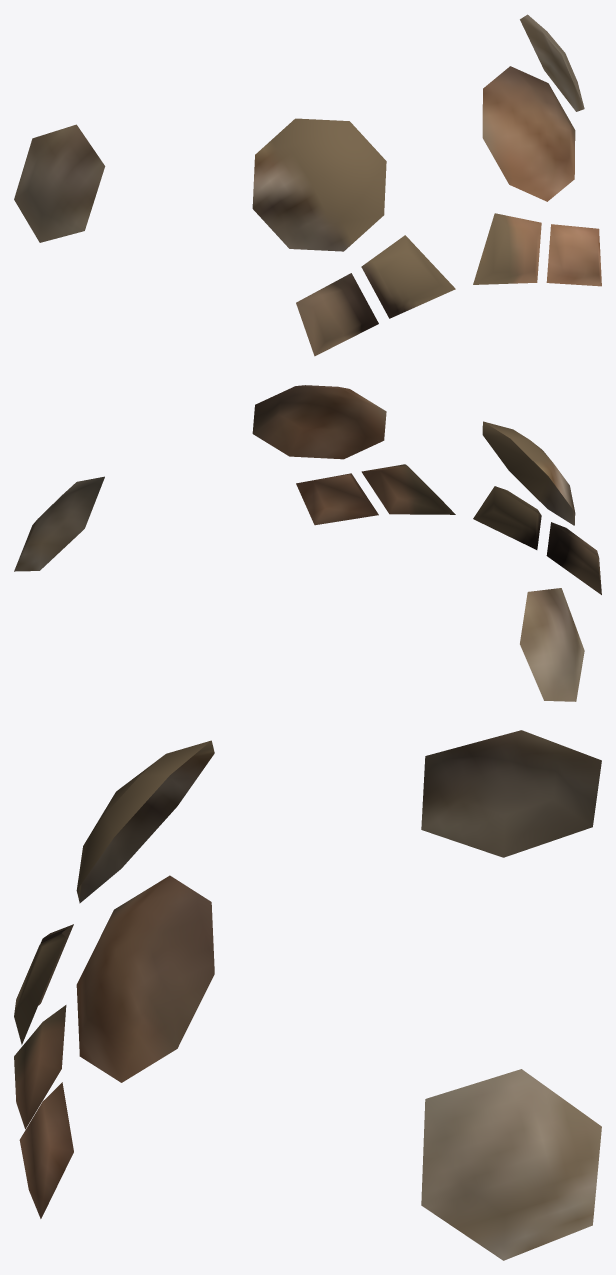
The model's file is spidereyes.obj.
3 views of the same model, one above another, from view 1: azimuth 30°, elevation 25°; view 2: azimuth 150°, elevation 25°; view 3: azimuth 270°, elevation 25° (orthographic). The views are drawn at different scales.
Parts seen in each view (by area): view 1: Object_8; view 2: Object_8; view 3: Object_8.
Part boxes in pixels (x1,y1,x2,y2): Object_8: [14, 14, 601, 356]; Object_8: [14, 385, 601, 701]; Object_8: [14, 730, 601, 1260].
Size of the model in its own units: 22.26 by 7.48 by 13.73.
